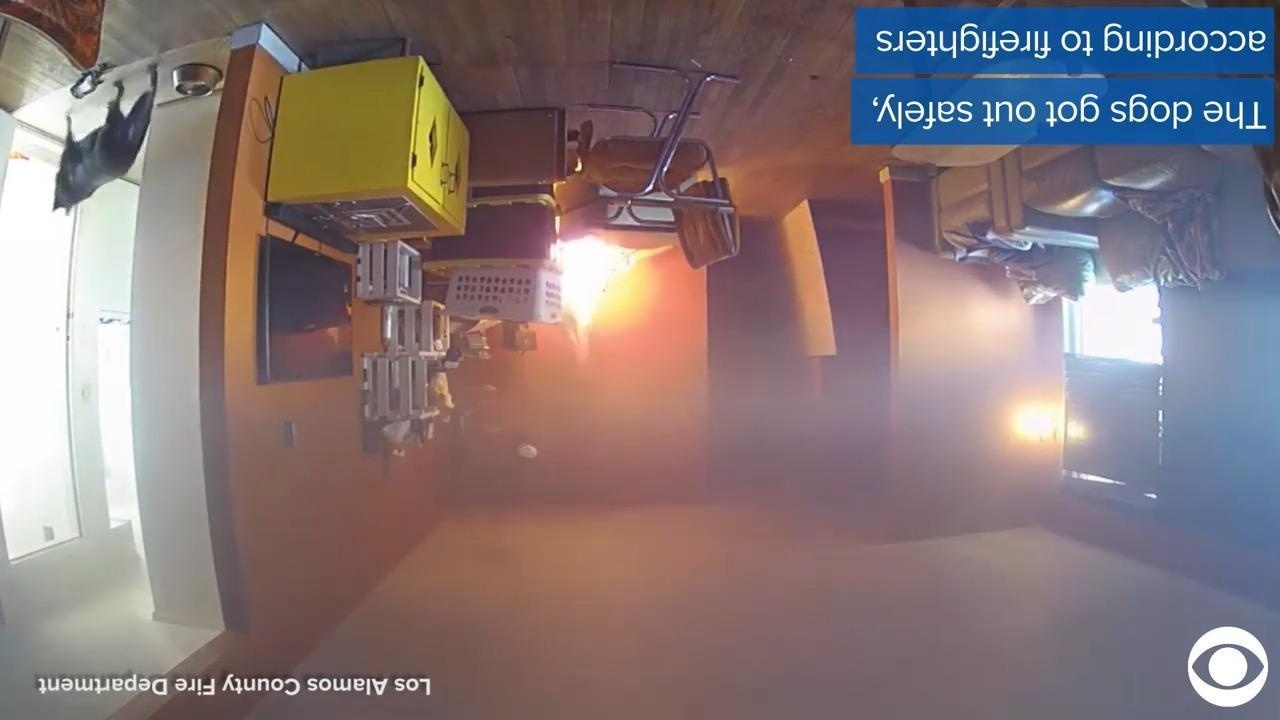fire: (547, 216, 664, 347)
